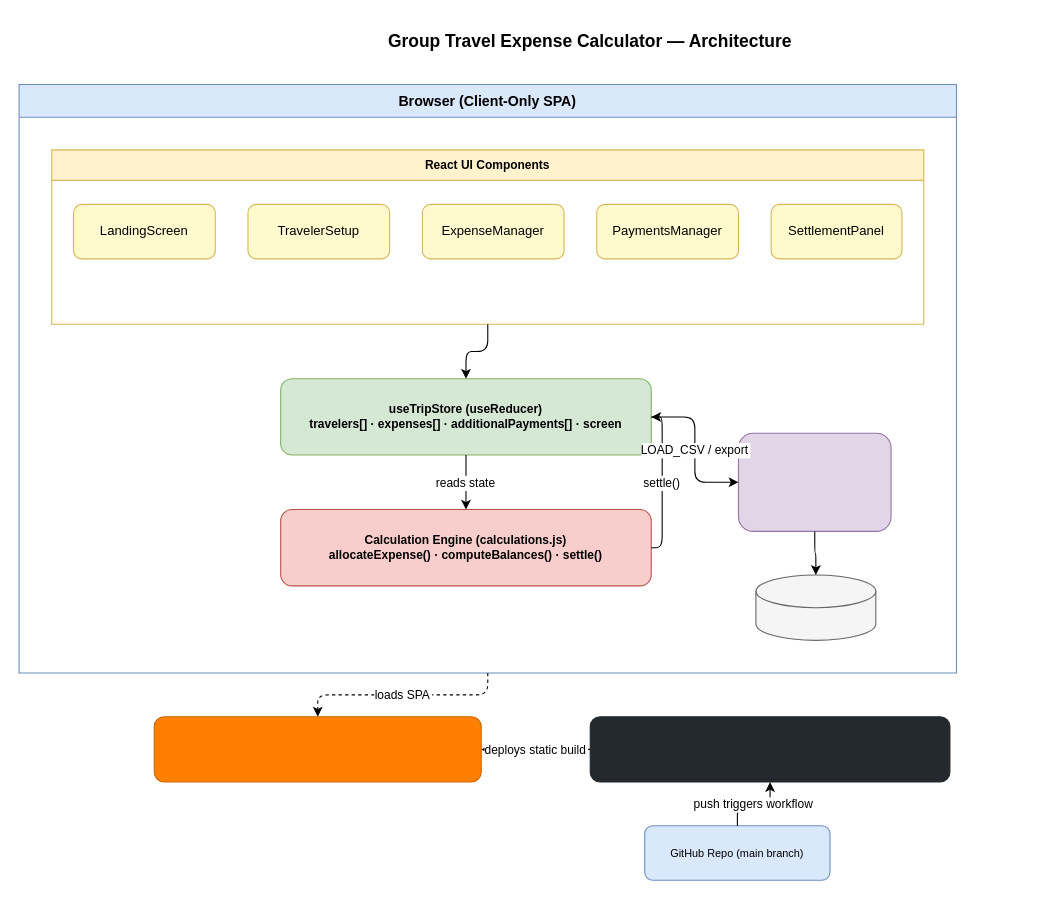
The diagram is 1045 pixels wide and 899 high, and some of its shapes have lost their labels. Here are the shapes that lost their labels. From the top down, the centre of each, then its label:
At (814,481): "CSV I/O csvParser.js csvExporter.js (PapaParse)".
At (815,607): "Local File System (CSV import / export)".
At (317,749): "Firebase Hosting (CDN) Static files served globally".
At (769,749): "GitHub Actions (CI/CD) npm build → firebase deploy on push to main".
